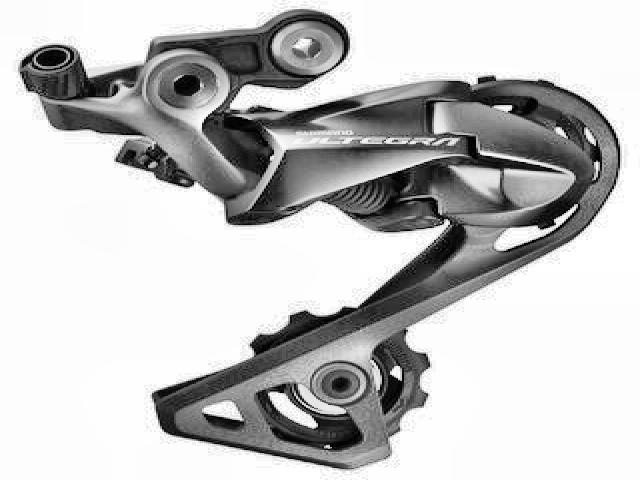rear_derailleur: (19, 8, 626, 472)
